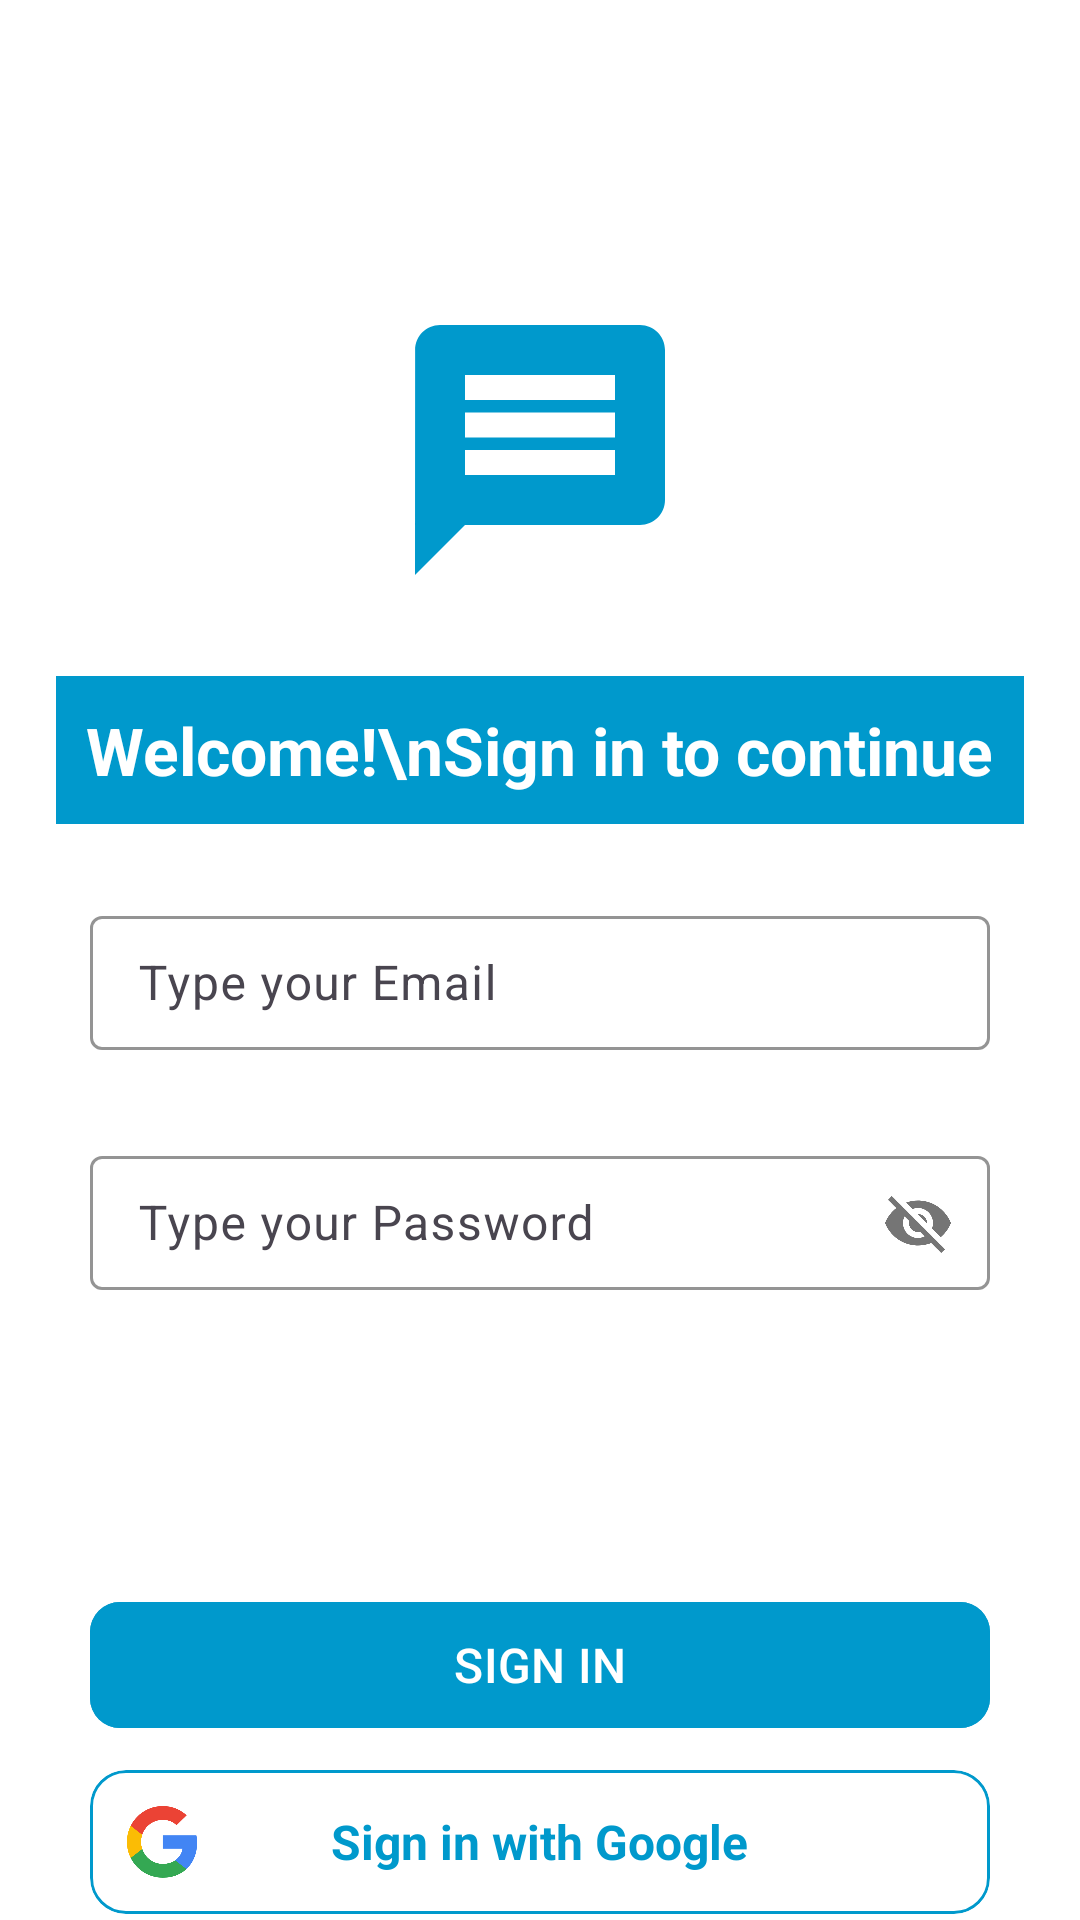

Named icons in this screenshot (1080w x 1920h) and their bounding boxes, (x1, y1, x2, y2):
message: (415, 325, 665, 575)
